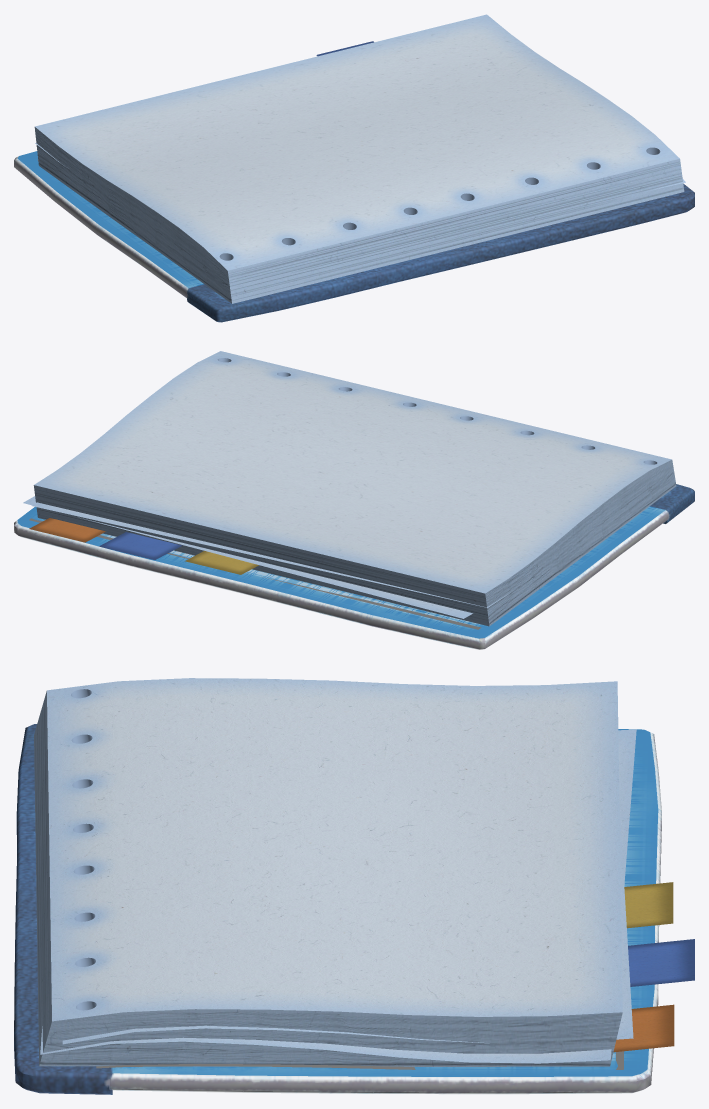
Rendered from RecipeBook_Back.fbx.
3 renders of one model, top to bottom at view 1: azimuth 30°, elevation 25°; view 2: azimuth 150°, elevation 25°; view 3: azimuth 270°, elevation 25°, orthographic. The views are drawn at different scales.
Visible parts, largest first — view 1: RecipeBook_Back; view 2: RecipeBook_Back; view 3: RecipeBook_Back.
Part boxes in pixels (x1,y1,x2,y2): RecipeBook_Back: [14, 14, 694, 322]; RecipeBook_Back: [14, 351, 694, 649]; RecipeBook_Back: [14, 678, 694, 1094].
Bounding box in the file's own units: 4.75 × 0.4921 × 3.84.
Materials: 7 (5 with a texture image).
